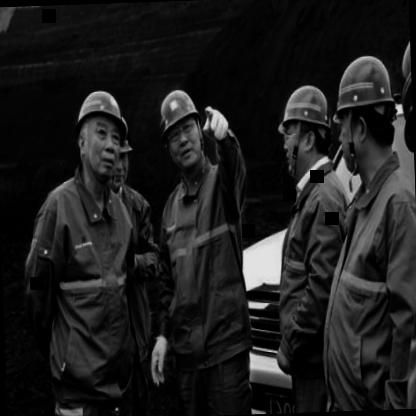helmet: (332, 51, 402, 174), (66, 78, 136, 194), (275, 78, 334, 173), (156, 82, 208, 176), (104, 138, 134, 190)
